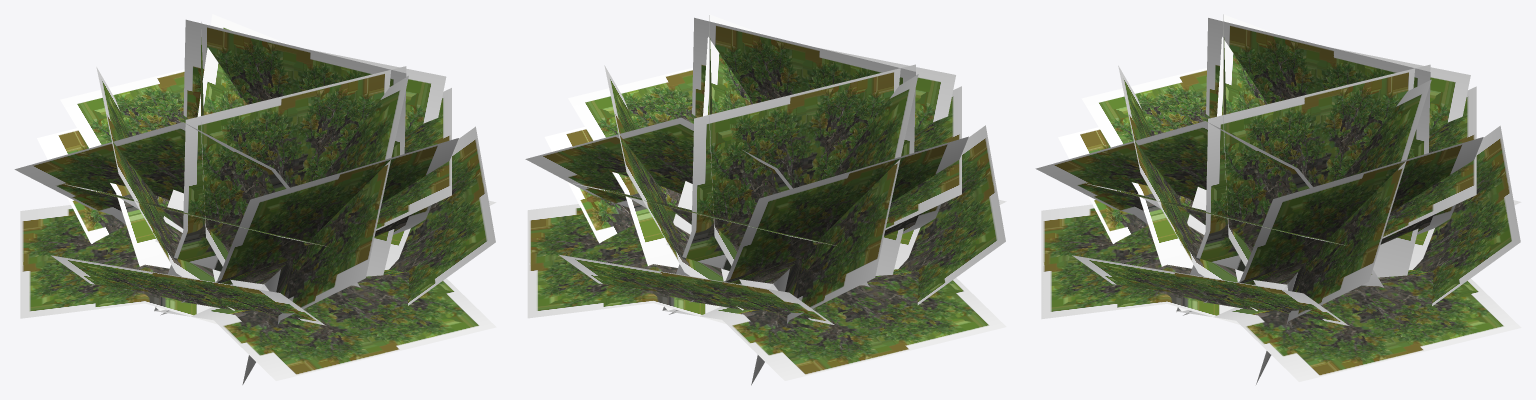
File: bush2.FBX
3 views of the same model, side by side, from view 1: azimuth 30°, elevation 25°; view 2: azimuth 150°, elevation 25°; view 3: azimuth 270°, elevation 25° (orthographic).
Visible parts, largest first — view 1: bush2; view 2: bush2; view 3: bush2.
Part boxes in pixels (x1,y1,x2,y2): bush2: (14,14,496,384); bush2: (525,14,1006,385); bush2: (1035,14,1521,384).
Bounding box in the file's own units: 130 × 70.59 × 114.
